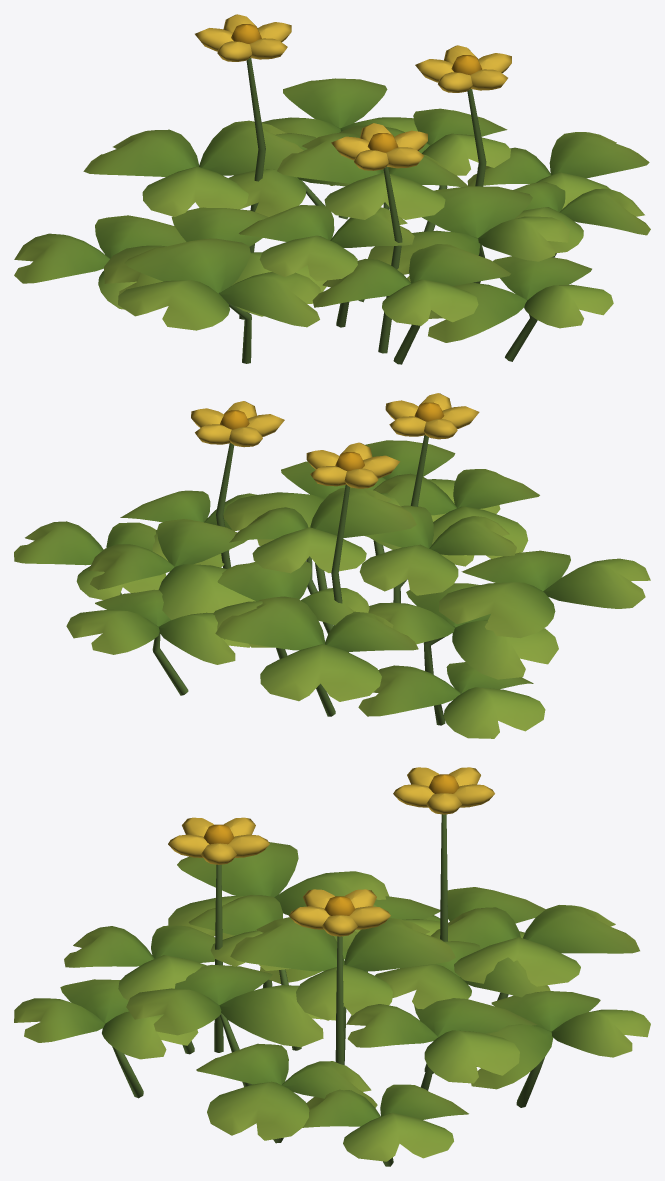
Rendered from clover_yellow_bloom.glb.
3 views of the same model, one above another, from view 1: azimuth 30°, elevation 25°; view 2: azimuth 150°, elevation 25°; view 3: azimuth 270°, elevation 25° (orthographic). The views are drawn at different scales.
Parts seen in each view (by area): view 1: Plant; view 2: Plant; view 3: Plant.
Part boxes in pixels (x1=…): Plant: x1=14, y1=14, x2=650, y2=364; Plant: x1=14, y1=393, x2=650, y2=738; Plant: x1=14, y1=767, x2=650, y2=1166.
Size of the model in its own units: 0.5102 by 0.2168 by 0.4739.
